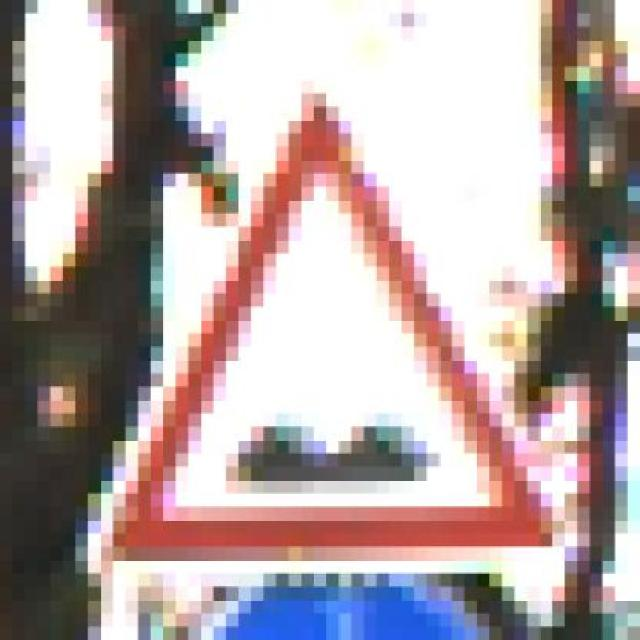Uneven Road: (62, 80, 566, 574)
